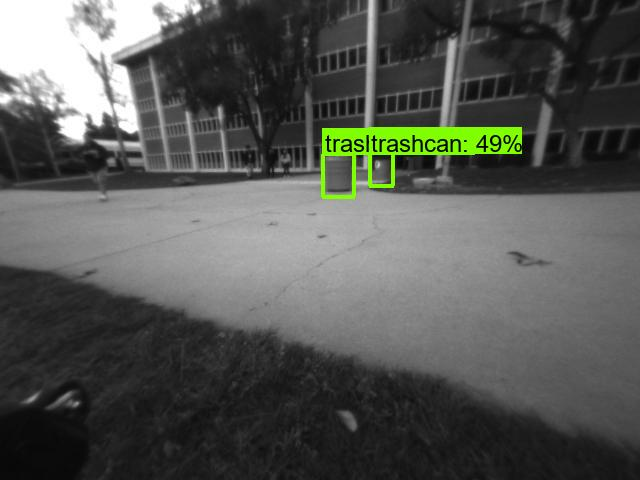trashcan: (323, 151, 355, 194), (371, 151, 393, 190)
